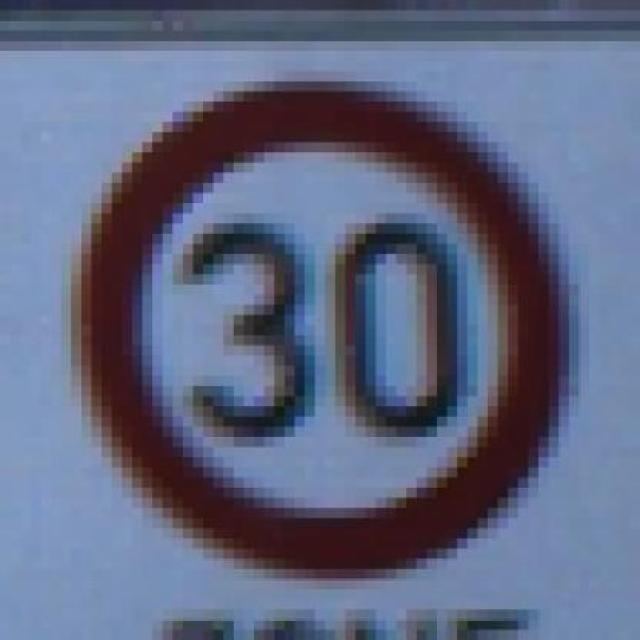Speed Limit 30 KMPh: (30, 61, 599, 599)
